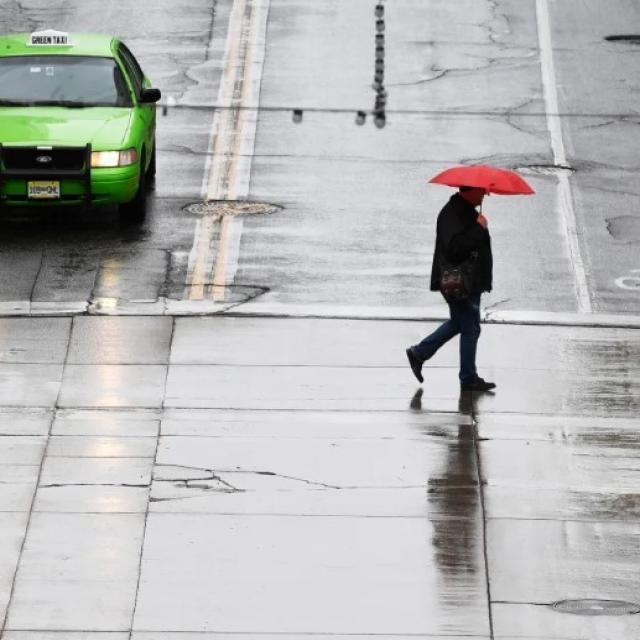car: (0, 27, 163, 225)
